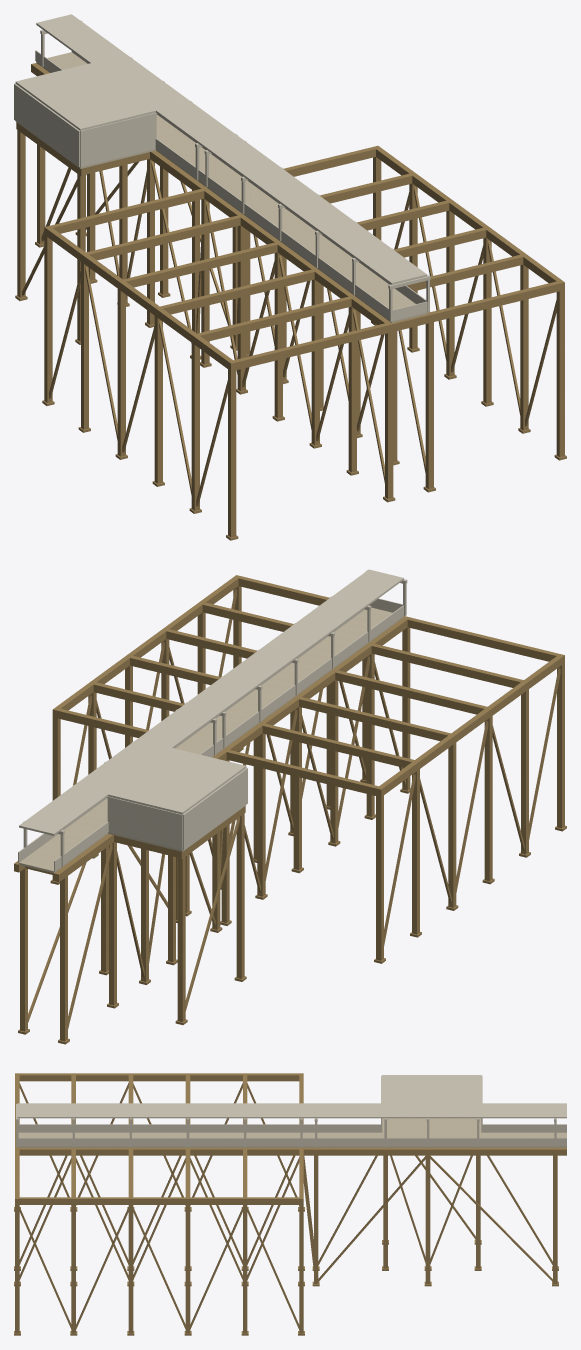
File: D04_PORT_FORWARD_NORTHERN_RECEIVING_r003.glb
3 views of the same model, one above another, from view 1: azimuth 30°, elevation 25°; view 2: azimuth 150°, elevation 25°; view 3: azimuth 270°, elevation 25° (orthographic). The views are drawn at different scales.
Parts seen in each view (by area): view 1: D04NR_MissingOnlyRoof, D04NR_MissingOnlyFloor, D04NR_CrossTransfer_5, D04NR_LongTransfer_1, D04NR_CrossTransfer_4, D04NR_CareEndWall_1, D04NR_CrossTransfer_3, D04NR_CrossTransfer_0, D04NR_CrossTransfer_1, D04NR_CrossTransfer_2, D04NR_WestGuard_1, D04NR_CareWestWall (+32 smaller); view 2: D04NR_MissingOnlyRoof, D04NR_MissingOnlyFloor, D04NR_LongTransfer_1, D04NR_CrossTransfer_0, D04NR_CareEndWall_0, D04NR_CrossTransfer_3, D04NR_CrossTransfer_5, D04NR_CrossTransfer_1, D04NR_CrossTransfer_2, D04NR_CrossTransfer_4, D04NR_CareWestWall, D04NR_LongTransfer_0 (+31 smaller); view 3: D04NR_MissingOnlyRoof, D04NR_MissingOnlyFloor, D04NR_LongTransfer_2, D04NR_EastGuard_0, D04NR_WestGuard_1, D04NR_LongTransfer_0, D04NR_LongTransfer_3, D04NR_Pier_11, D04NR_Pier_15, D04NR_Pier_27, D04NR_WestGuard_0, D04NR_Pier_3 (+22 smaller).
Boxes of the visible parts, x1=… form: D04NR_MissingOnlyRoof: x1=15, y1=14, x2=427, y2=284; D04NR_MissingOnlyFloor: x1=15, y1=52, x2=427, y2=322; D04NR_CrossTransfer_5: x1=228, y1=281, x2=564, y2=371; D04NR_LongTransfer_1: x1=31, y1=63, x2=390, y2=324; D04NR_CrossTransfer_4: x1=192, y1=254, x2=527, y2=343; D04NR_CareEndWall_1: x1=80, y1=112, x2=156, y2=166; D04NR_CrossTransfer_3: x1=154, y1=227, x2=490, y2=317; D04NR_CrossTransfer_0: x1=44, y1=145, x2=379, y2=235; D04NR_CrossTransfer_1: x1=81, y1=172, x2=415, y2=261; D04NR_CrossTransfer_2: x1=118, y1=199, x2=453, y2=289; D04NR_WestGuard_1: x1=155, y1=138, x2=388, y2=319; D04NR_CareWestWall: x1=14, y1=83, x2=80, y2=166; D04NR_MissingOnlyRoof: x1=19, y1=569, x2=403, y2=835; D04NR_MissingOnlyFloor: x1=19, y1=607, x2=403, y2=873; D04NR_LongTransfer_1: x1=54, y1=617, x2=408, y2=882; D04NR_CrossTransfer_0: x1=52, y1=707, x2=383, y2=797; D04NR_CareEndWall_0: x1=107, y1=796, x2=182, y2=849; D04NR_CrossTransfer_3: x1=162, y1=629, x2=492, y2=717; D04NR_CrossTransfer_5: x1=235, y1=575, x2=564, y2=664; D04NR_CrossTransfer_1: x1=89, y1=681, x2=419, y2=770; D04NR_CrossTransfer_2: x1=125, y1=654, x2=455, y2=742; D04NR_CrossTransfer_4: x1=198, y1=602, x2=528, y2=690; D04NR_CareWestWall: x1=182, y1=768, x2=247, y2=849; D04NR_LongTransfer_0: x1=378, y1=655, x2=562, y2=794; D04NR_MissingOnlyRoof: x1=17, y1=1075, x2=566, y2=1118; D04NR_MissingOnlyFloor: x1=17, y1=1118, x2=566, y2=1147; D04NR_LongTransfer_2: x1=17, y1=1147, x2=566, y2=1155; D04NR_EastGuard_0: x1=18, y1=1138, x2=566, y2=1146; D04NR_WestGuard_1: x1=18, y1=1124, x2=381, y2=1132; D04NR_LongTransfer_0: x1=17, y1=1073, x2=301, y2=1081; D04NR_LongTransfer_3: x1=17, y1=1197, x2=301, y2=1204; D04NR_Pier_11: x1=185, y1=1205, x2=190, y2=1333; D04NR_Pier_15: x1=128, y1=1205, x2=133, y2=1333; D04NR_Pier_27: x1=425, y1=1155, x2=430, y2=1283; D04NR_WestGuard_0: x1=482, y1=1124, x2=566, y2=1132; D04NR_Pier_3: x1=299, y1=1205, x2=303, y2=1333.
Size of the model in its own units: 38.9 by 23.88 by 71.65.
14 materials, 13 textured.
